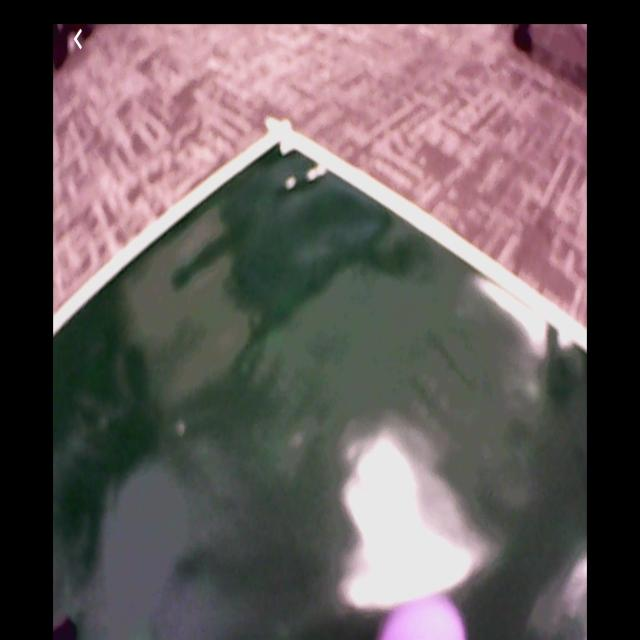ball: (376, 600, 467, 640)
